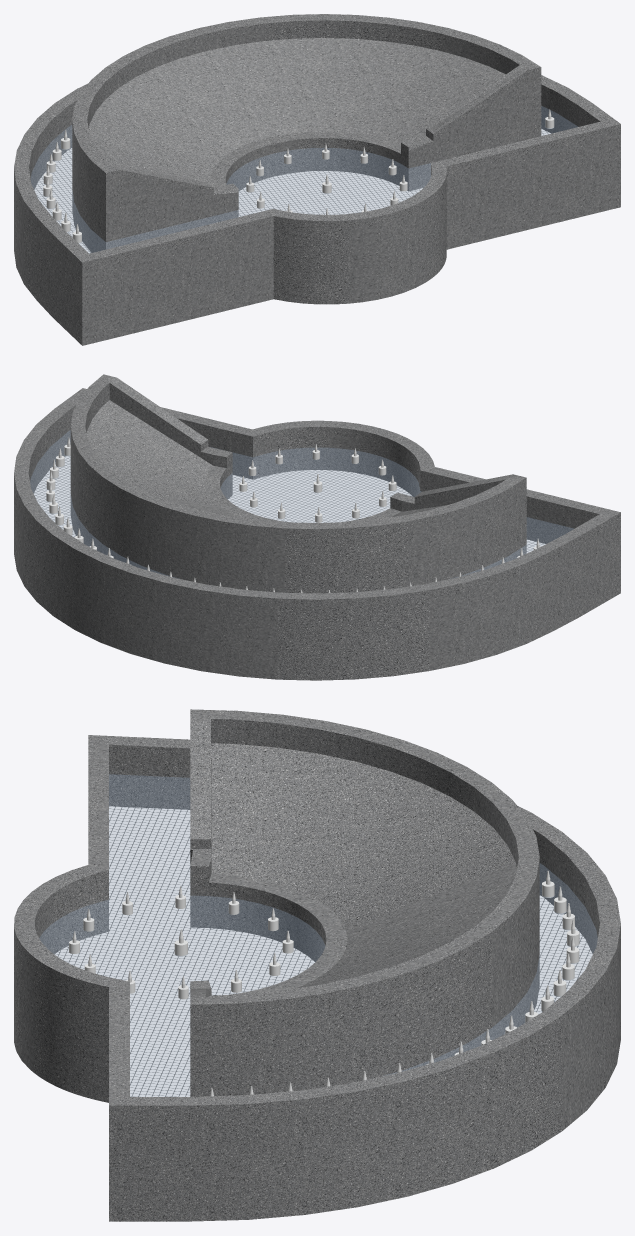
File: fontan.glb
The picture shows the model from 3 angles, top to bottom: view 1: azimuth 30°, elevation 25°; view 2: azimuth 150°, elevation 25°; view 3: azimuth 270°, elevation 25°; orthographic projection. The views are drawn at different scales.
Parts seen in each view (by area): view 1: 0_curve_, 0_curve_.002, 0_curve_.004; view 2: 0_curve_, 0_curve_.002, 0_curve_.004; view 3: 0_curve_, 0_curve_.002, 0_curve_.004.
Part boxes in pixels (left/top/right/bottom): 0_curve_: left=14, top=14, right=620, bottom=345; 0_curve_.002: left=31, top=106, right=577, bottom=253; 0_curve_.004: left=34, top=129, right=550, bottom=253; 0_curve_: left=14, top=374, right=620, bottom=680; 0_curve_.002: left=30, top=430, right=573, bottom=577; 0_curve_.004: left=34, top=456, right=545, bottom=553; 0_curve_: left=14, top=709, right=620, bottom=1221; 0_curve_.002: left=40, top=774, right=597, bottom=1096; 0_curve_.004: left=54, top=806, right=592, bottom=1096.
Size of the model in its own units: 21.07 by 4.85 by 14.58.
Materials: 4 (2 with a texture image).
